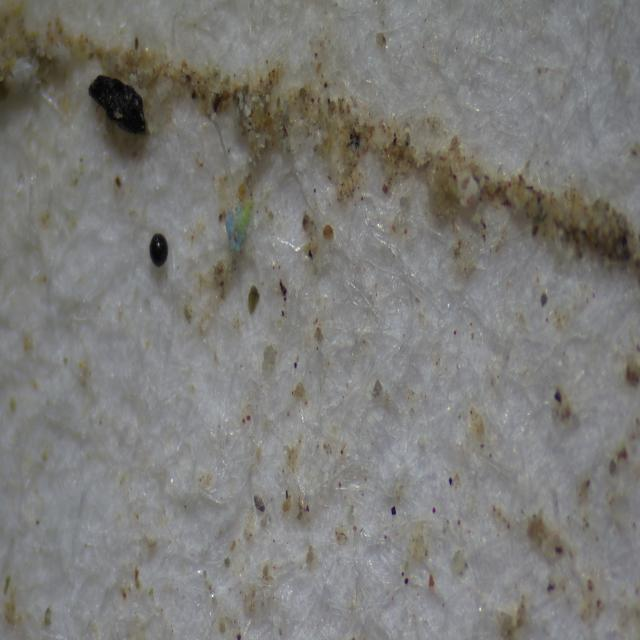microplastic: (220, 196, 256, 254), (146, 225, 172, 269)
